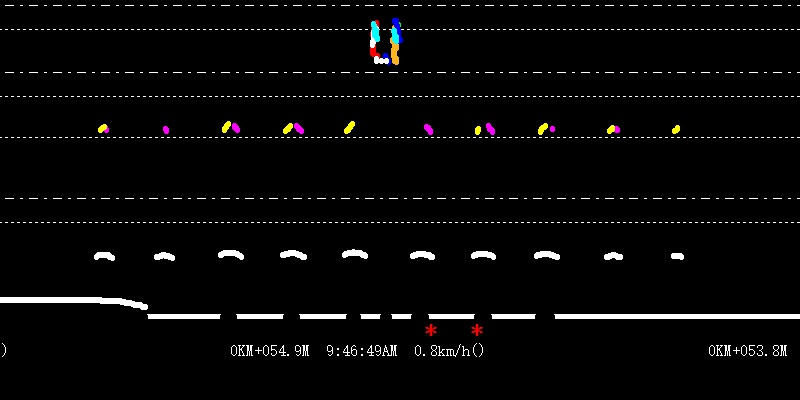J: (369, 3, 402, 66)
star: (468, 321, 486, 341), (421, 322, 441, 338)
y_p: (204, 112, 565, 273)
